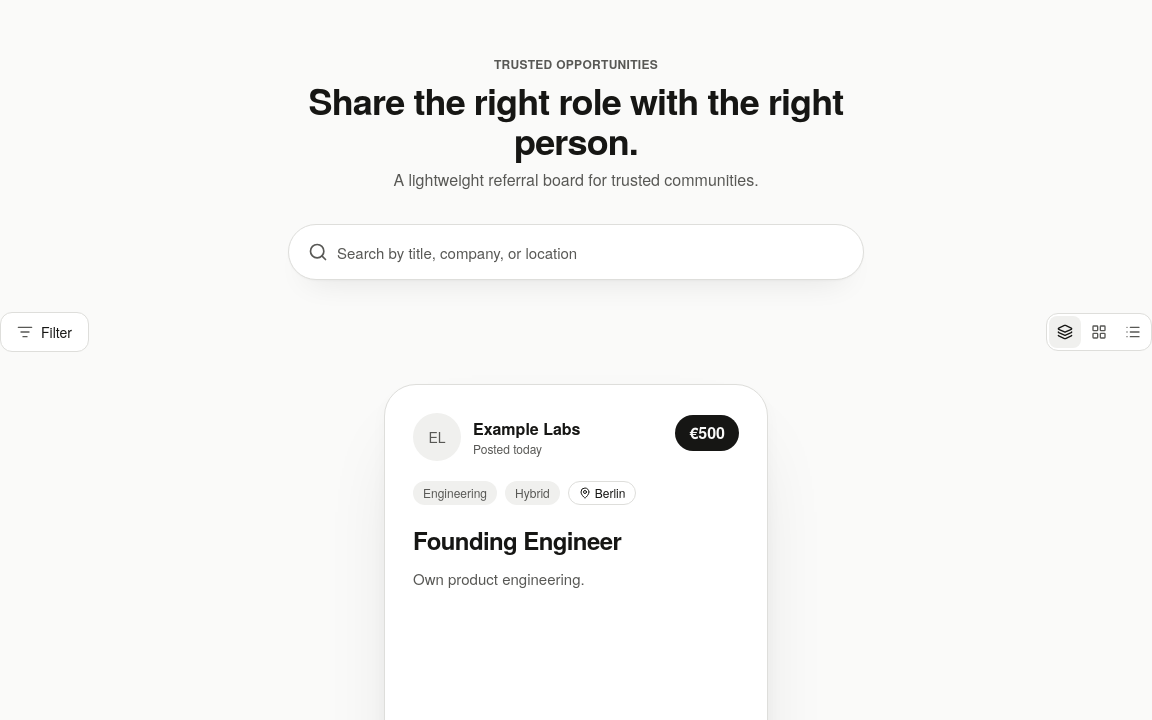
JobsPage › narrows the visible jobs when a filter excludes the only match
Expected: the heading "Founding Engineer" is shown, [413,523,621,557]
Click the button "Filter". click: (44, 332)
box: [0,312,89,352]
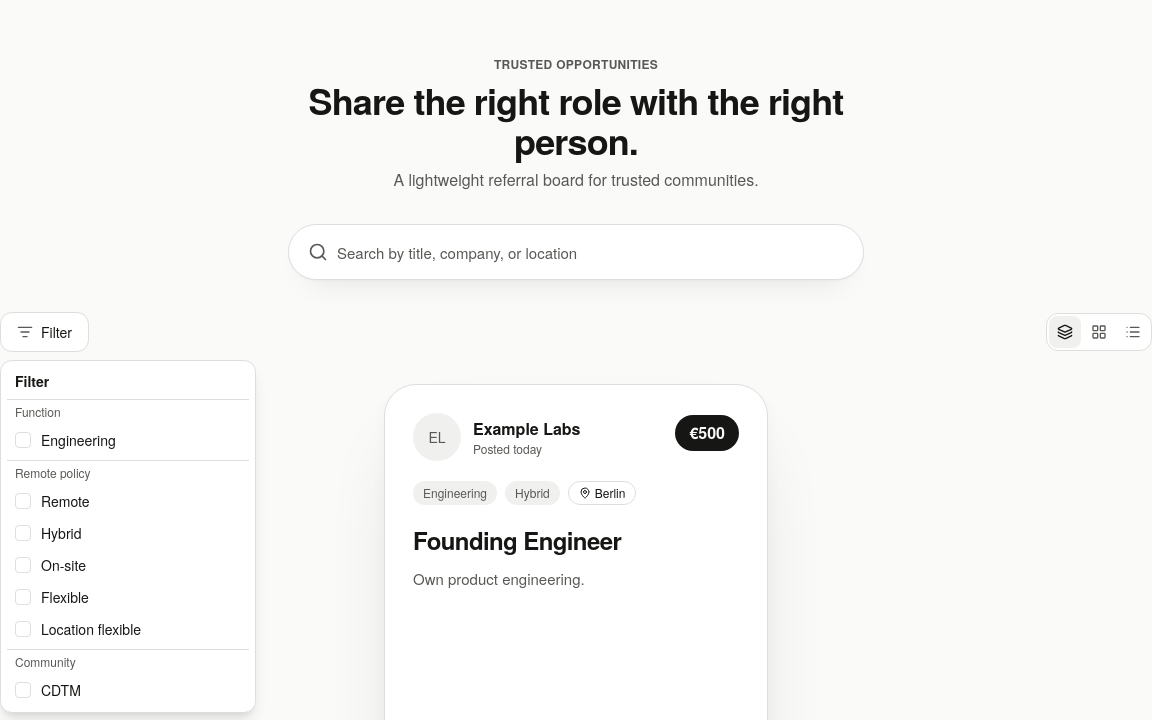
Click the checkbox labelled "On-site". click: (23, 565)
box: [15,557,31,573]
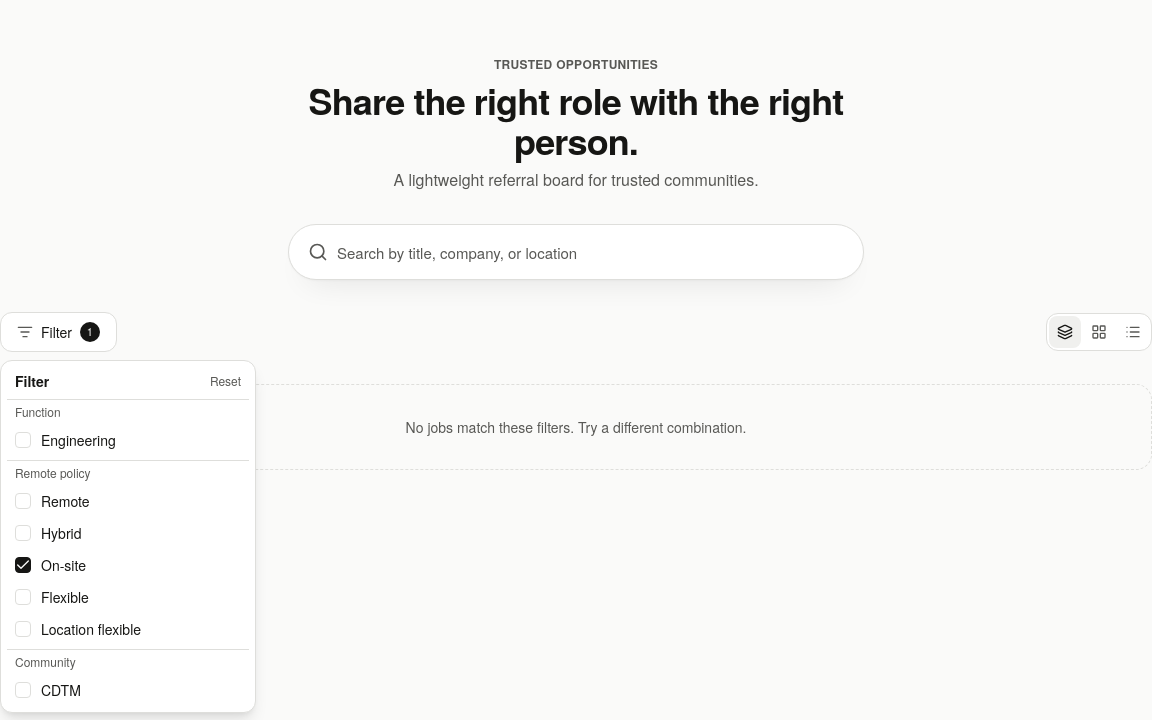
Expected: the text "No jobs match these filters. Try a different combination." is shown, [0,384,1151,470]
